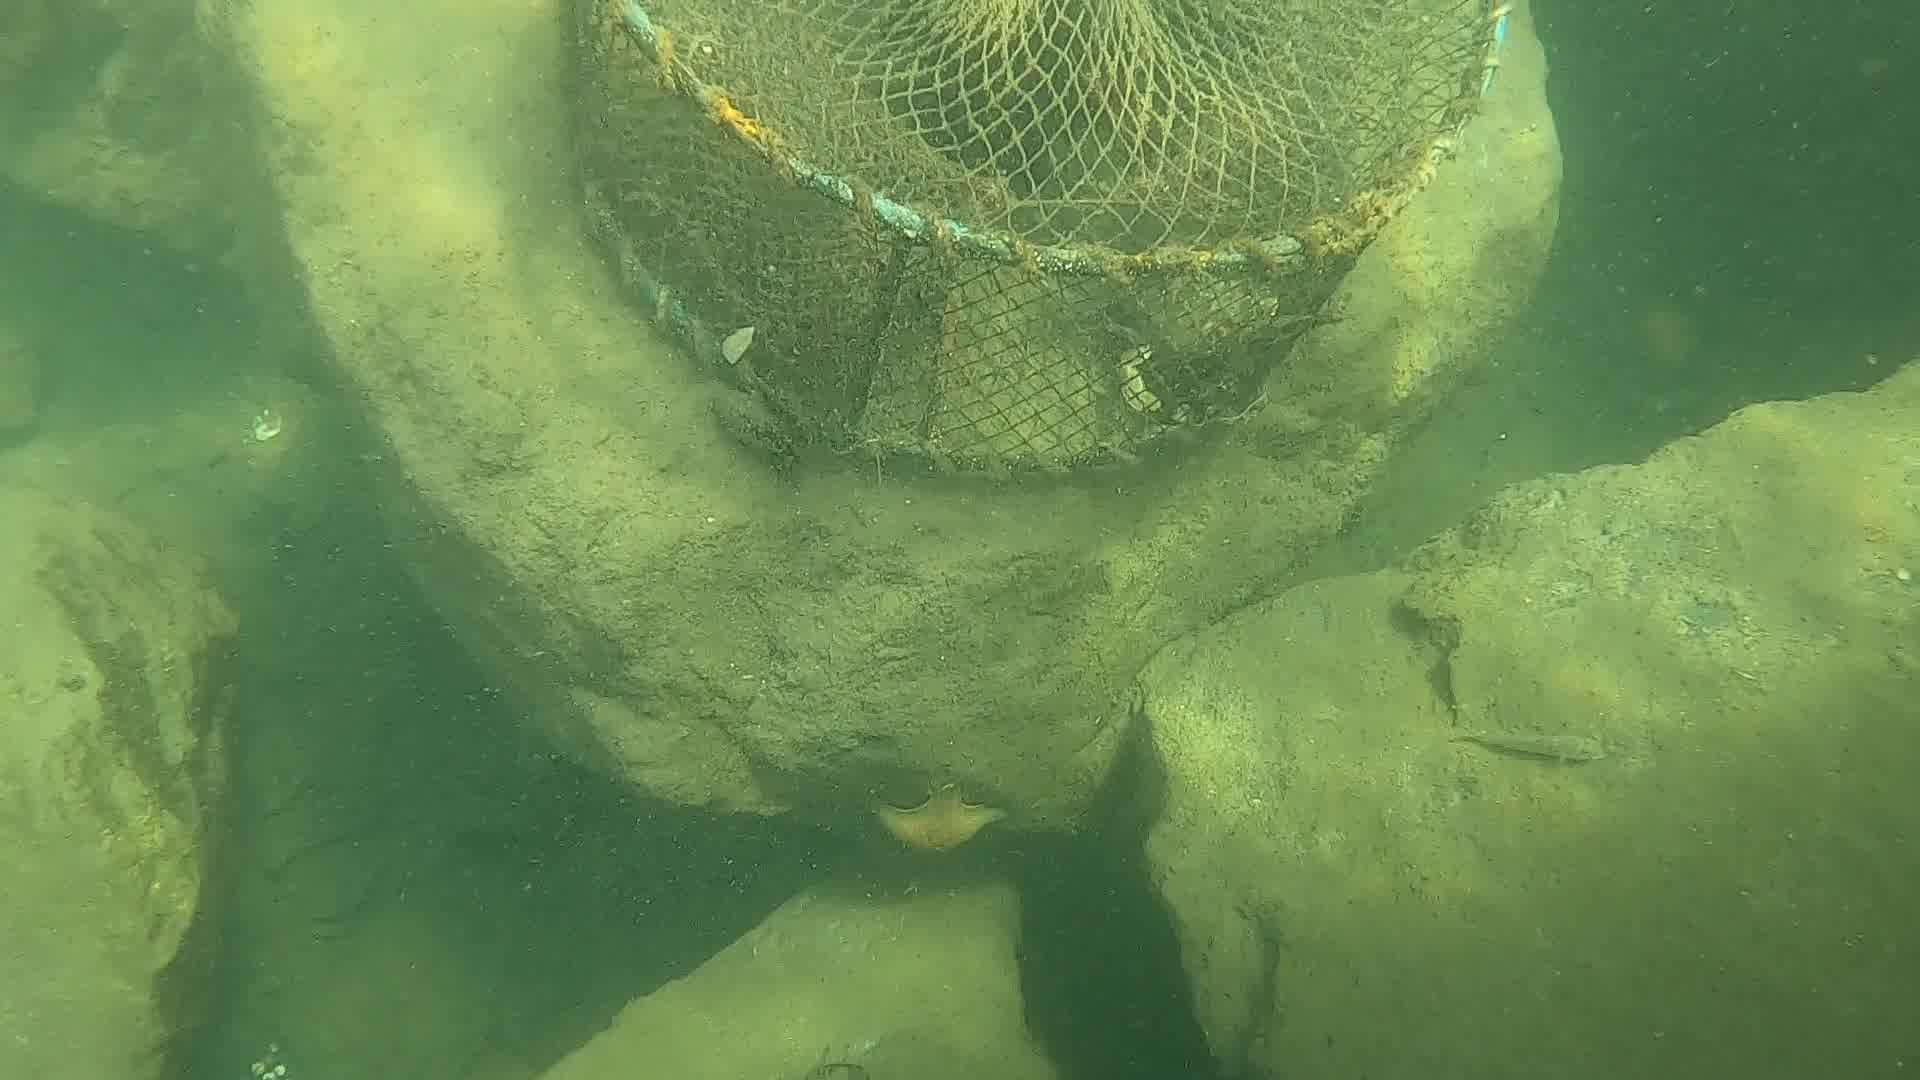circular fish trap: (545, 0, 1501, 479)
